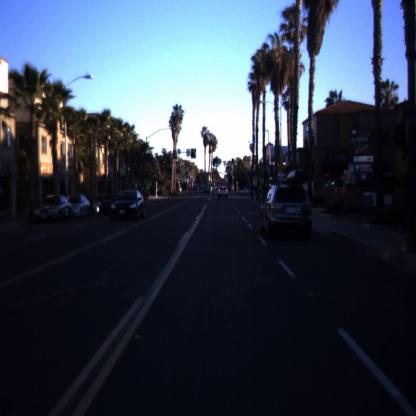trafficlight: (269, 166, 273, 180), (214, 158, 218, 167), (232, 158, 234, 166), (155, 173, 157, 180)
